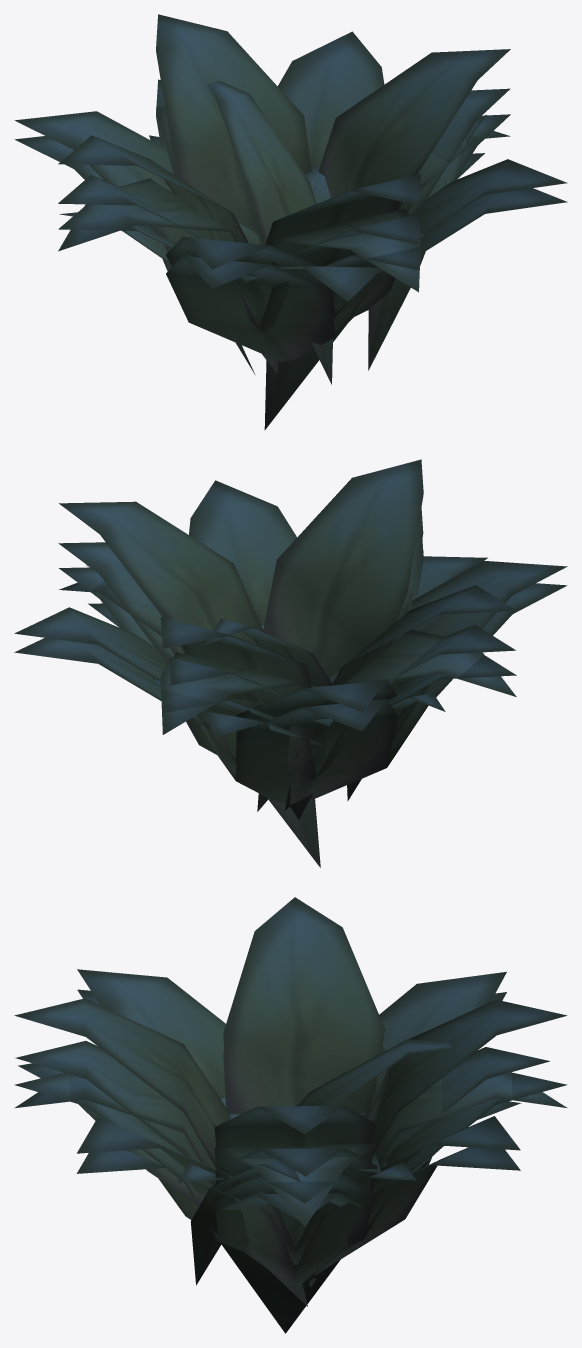
The model's file is 장식식물_Grass_01_.fbx.
3 views of the same model, one above another, from view 1: azimuth 30°, elevation 25°; view 2: azimuth 150°, elevation 25°; view 3: azimuth 270°, elevation 25° (orthographic). The views are drawn at different scales.
Visible parts, largest first — view 1: Grass_06, Grass_01, Grass_04, Grass_03, Grass_05, Grass_02; view 2: Grass_06, Grass_01, Grass_05, Grass_03, Grass_02, Grass_04; view 3: Grass_06, Grass_01, Grass_05, Grass_03, Grass_02, Grass_04.
Part boxes in pixels (x1,y1,x2,y2): Grass_06: (14, 14, 567, 318); Grass_01: (14, 105, 567, 361); Grass_04: (59, 80, 486, 384); Grass_03: (58, 88, 510, 266); Grass_05: (58, 79, 510, 333); Grass_02: (134, 135, 484, 430); Grass_06: (14, 459, 567, 762); Grass_01: (14, 550, 567, 804); Grass_05: (59, 539, 516, 786); Grass_03: (58, 507, 515, 810); Grass_02: (88, 556, 487, 867); Grass_04: (86, 565, 445, 801); Grass_06: (14, 897, 567, 1263); Grass_01: (14, 989, 567, 1282); Grass_05: (14, 1072, 567, 1265); Grass_03: (15, 1041, 549, 1287); Grass_02: (18, 1063, 521, 1333); Grass_04: (190, 1039, 451, 1285).
Size of the model in its own units: 2.28 by 1.49 by 2.25.
